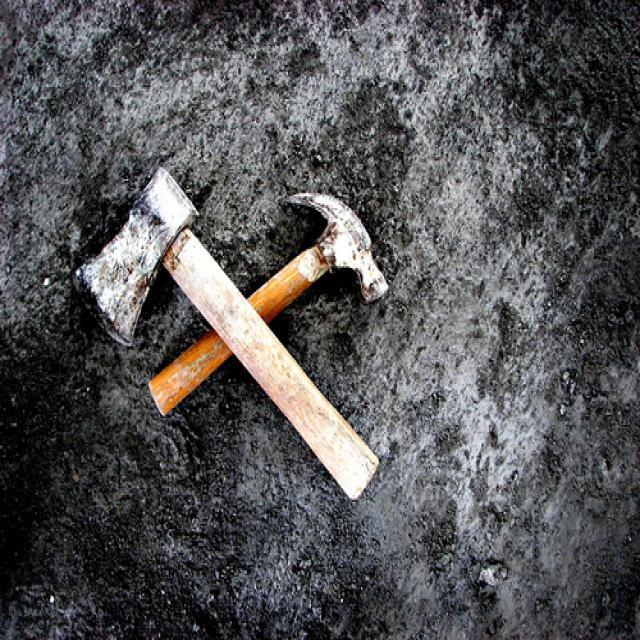hammer: (151, 182, 405, 408)
